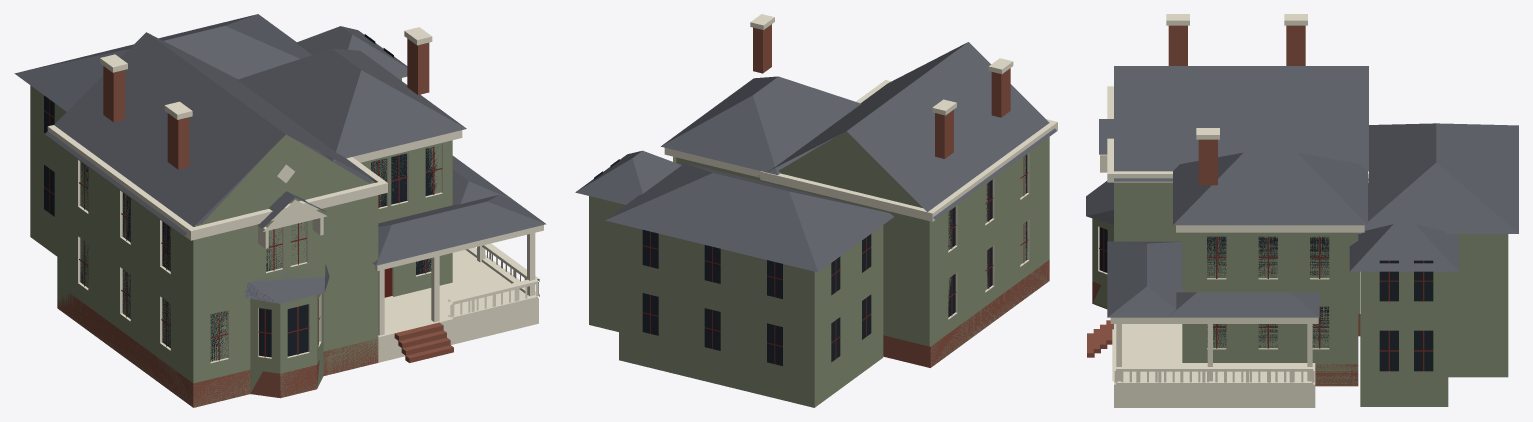
The model's file is terry-house.glb.
The picture shows the model from 3 angles, left to right: view 1: azimuth 30°, elevation 25°; view 2: azimuth 150°, elevation 25°; view 3: azimuth 270°, elevation 25°; orthographic projection. The views are drawn at different scales.
Parts seen in each view (by area): view 1: terry_clap, terry_slate, terry_trim, terry_brick, terry_glass, terry_base, terry_sash; view 2: terry_clap, terry_slate, terry_glass, terry_brick, terry_trim, terry_sash; view 3: terry_slate, terry_clap, terry_trim, terry_glass, terry_brick, terry_sash, terry_base.
Part boxes in pixels (x1,y1,x2,y2): terry_clap: (30,78,452,407); terry_slate: (14,14,546,303); terry_trim: (47,27,543,363); terry_brick: (57,38,429,407); terry_glass: (44,34,437,361); terry_base: (394,322,453,362); terry_sash: (44,99,442,360); terry_clap: (589,131,1049,407); terry_slate: (575,42,1056,272); terry_glass: (594,154,1027,365); terry_brick: (753,24,1049,367); terry_trim: (664,14,1057,319); terry_sash: (642,156,1028,364); terry_slate: (1086,66,1518,317); terry_clap: (1092,182,1508,406); terry_trim: (1098,14,1368,407); terry_glass: (1099,227,1433,371); terry_brick: (1092,25,1360,386); terry_sash: (1099,228,1433,371); terry_base: (1087,320,1113,357).
Size of the model in its own units: 17.85 by 12.65 by 20.2.
